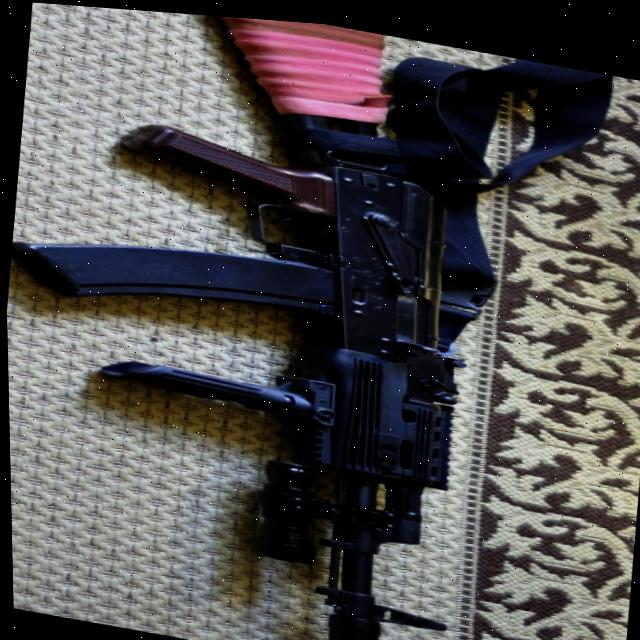firearm: (0, 0, 507, 640)
